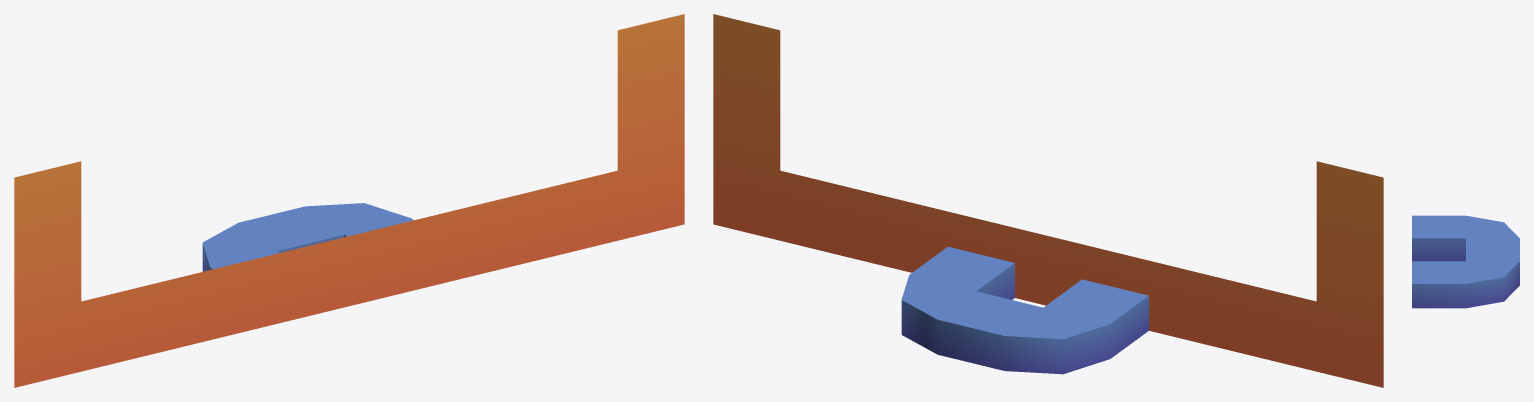
Rendered from track-narrow-cap-front.glb.
3 renders of one model, left to right at view 1: azimuth 30°, elevation 25°; view 2: azimuth 150°, elevation 25°; view 3: azimuth 270°, elevation 25°, orthographic. The views are drawn at different scales.
Parts seen in each view (by area): view 1: track-narrow-cap-front; view 2: track-narrow-cap-front; view 3: track-narrow-cap-front.
Part boxes in pixels (x1,y1,x2,y2): track-narrow-cap-front: [14, 14, 684, 387]; track-narrow-cap-front: [713, 14, 1383, 387]; track-narrow-cap-front: [1412, 215, 1519, 308].
Size of the model in its own units: 1 by 0.3 by 0.2.
Materials: 1 (1 with a texture image).
